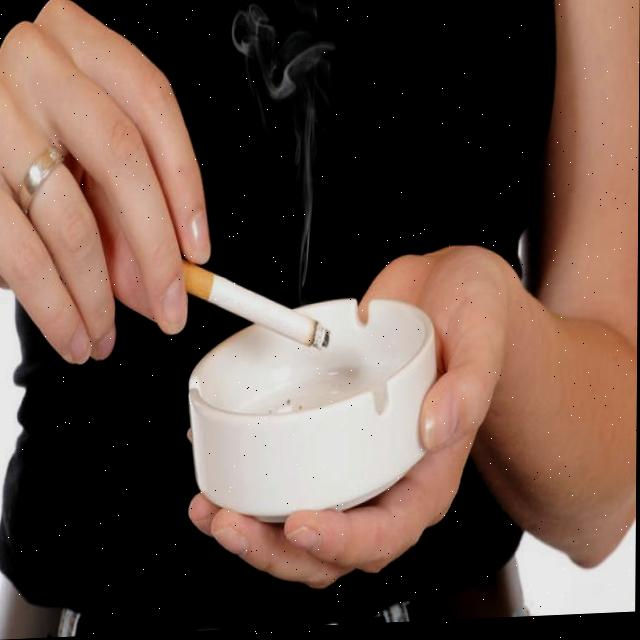cigarette: (185, 260, 331, 357)
